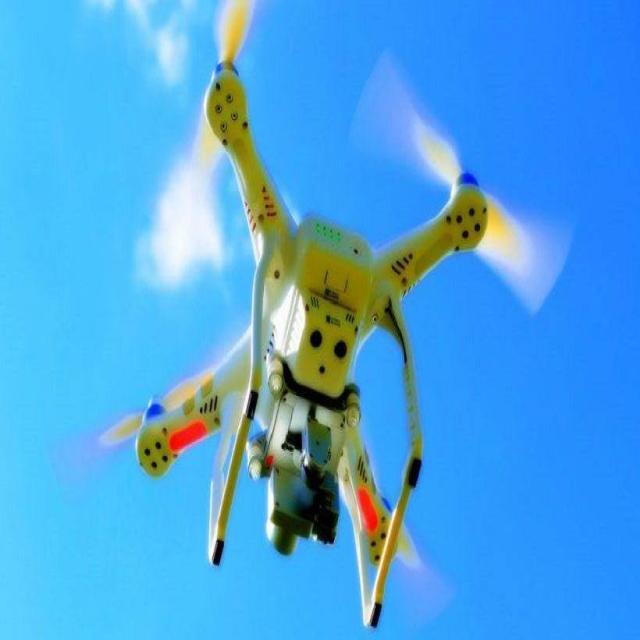drone: (120, 41, 552, 614)
